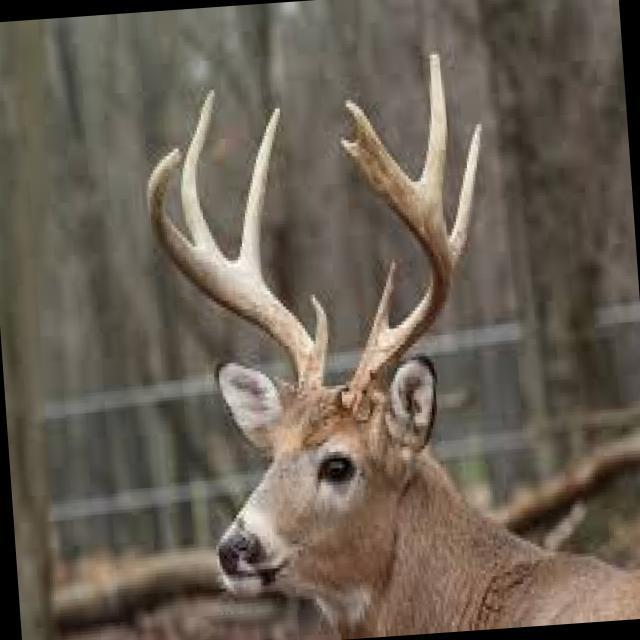E1: (343, 98, 382, 147)
L-F: (336, 134, 453, 420)
L-G1: (366, 257, 398, 339)
L-G2: (446, 120, 483, 276)
L-G3: (418, 50, 449, 212)
R-F: (145, 147, 323, 400)
R-G1: (309, 291, 328, 366)
R-G2: (238, 106, 281, 274)
R-G3: (180, 86, 226, 262)
